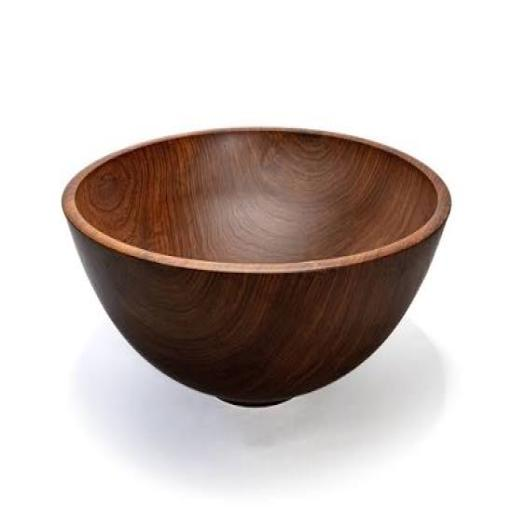Bowl: (62, 128, 450, 405)
